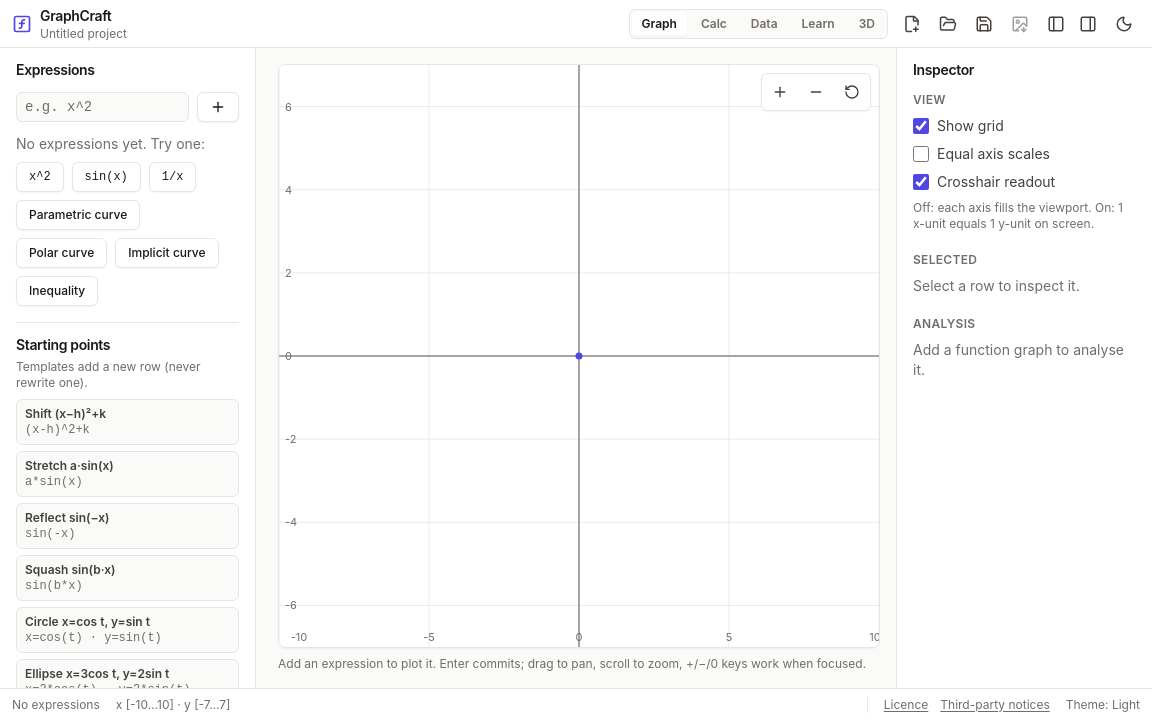
Test: data lab ingestion › commits a manual grid through the same validation
Click the button with aria-label "Show data lab": x=764, y=24 [741,12,788,36]
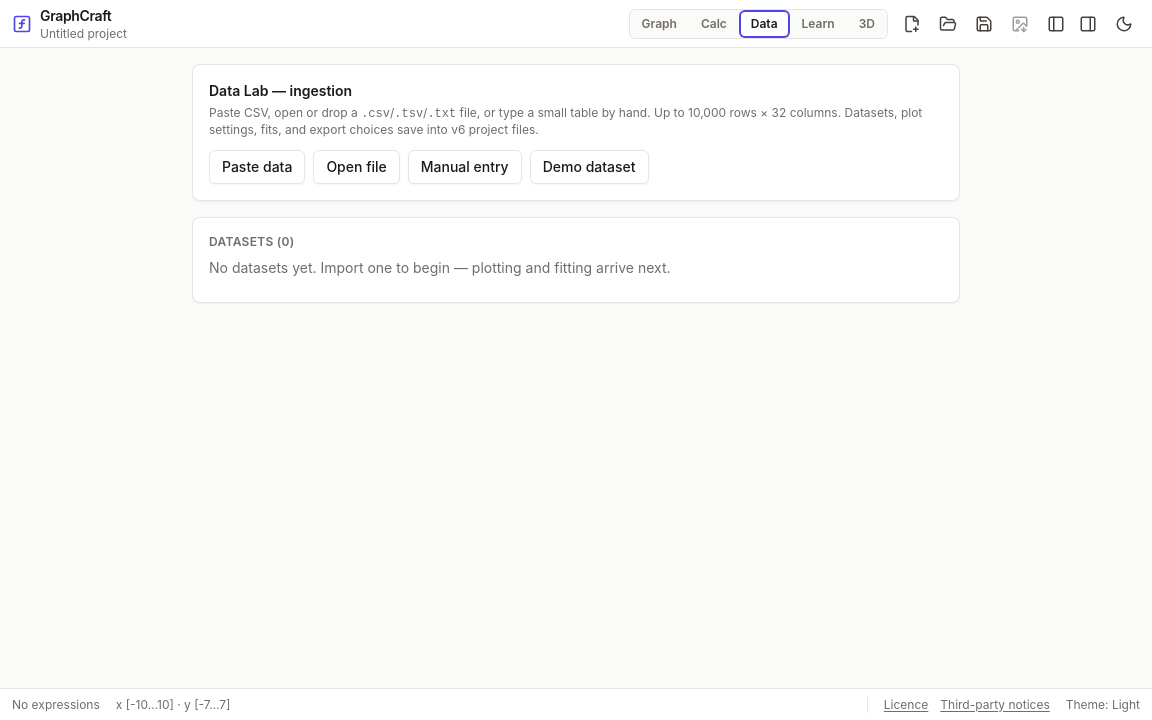
Expected: the heading "Data Lab — ingestion" is shown, [209,82,352,99]
Expected: the button "Paste data" is shown, [209,150,305,184]
Click the button "Manual entry": x=465, y=167 [408,150,522,184]
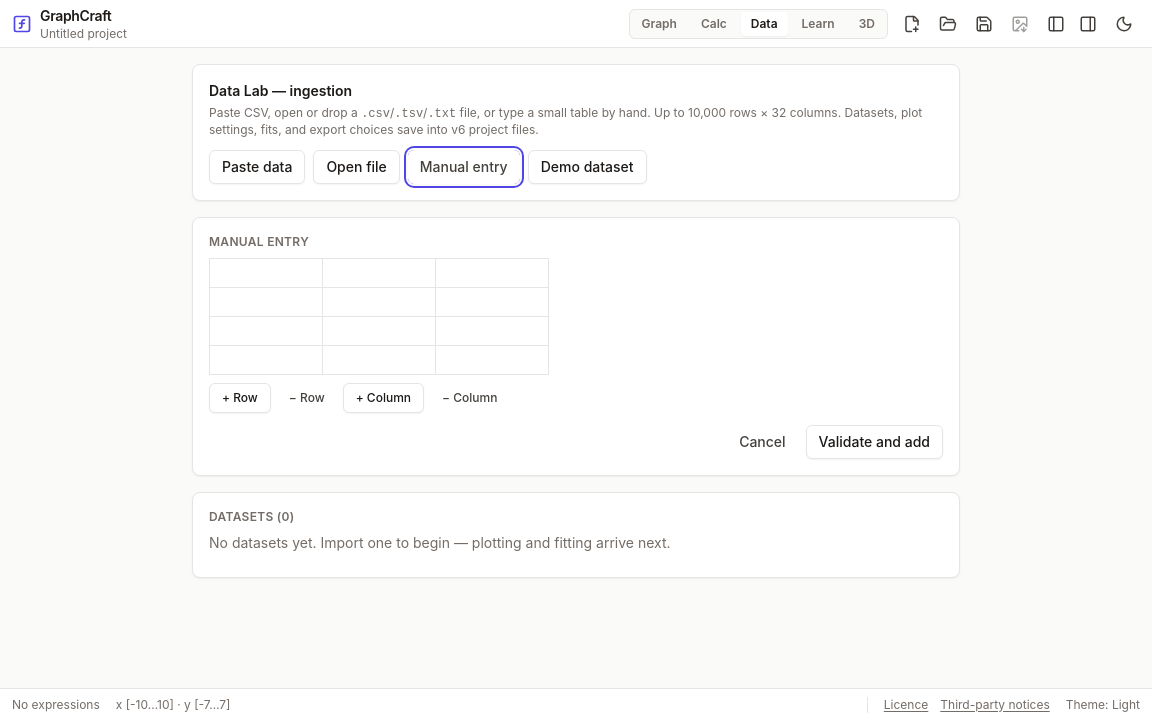
In the field named "Row 1 column 1": x=266, y=273 [210,259,322,287], type "t"
In the field named "Row 1 column 2": x=379, y=273 [323,259,435,287], type "v"
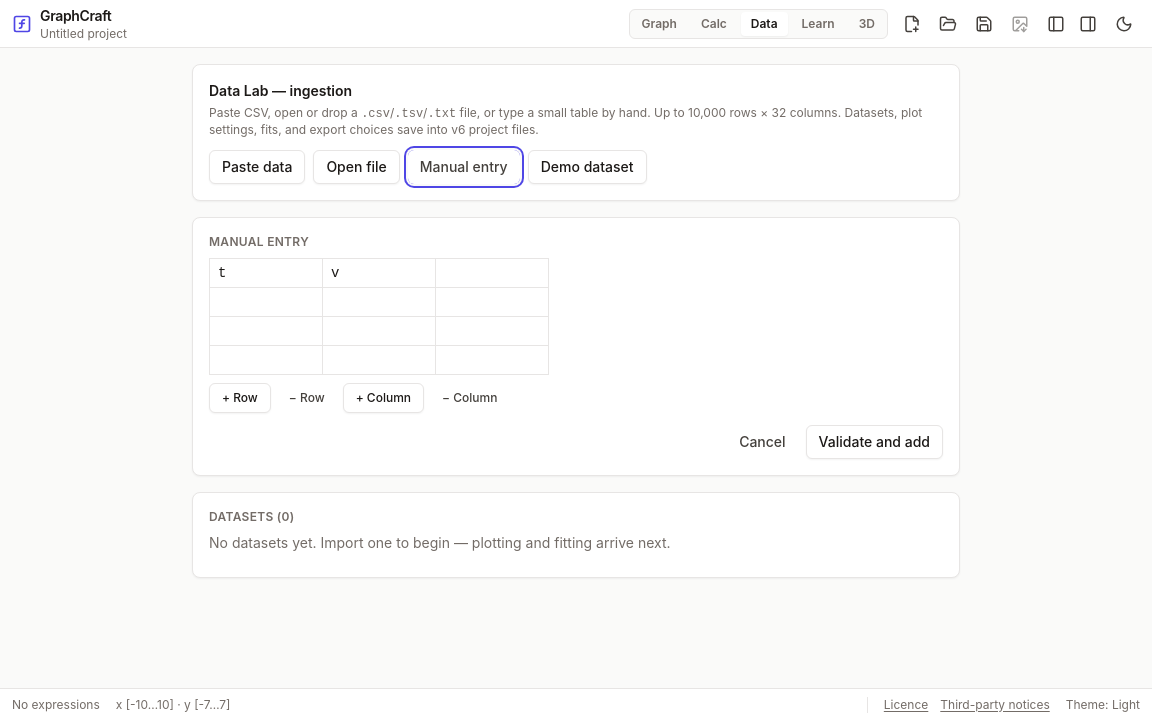
In the field named "Row 2 column 1": x=266, y=302 [210,288,322,316], type "0"
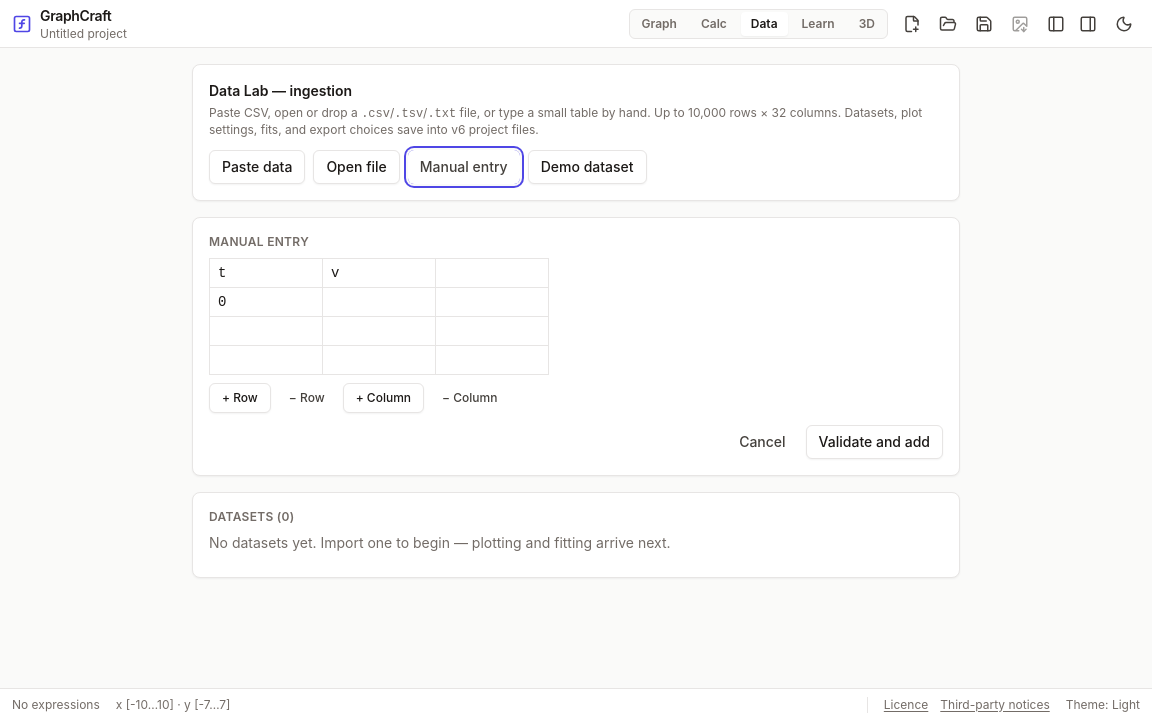
In the field named "Row 2 column 2": x=379, y=302 [323,288,435,316], type "9.8"
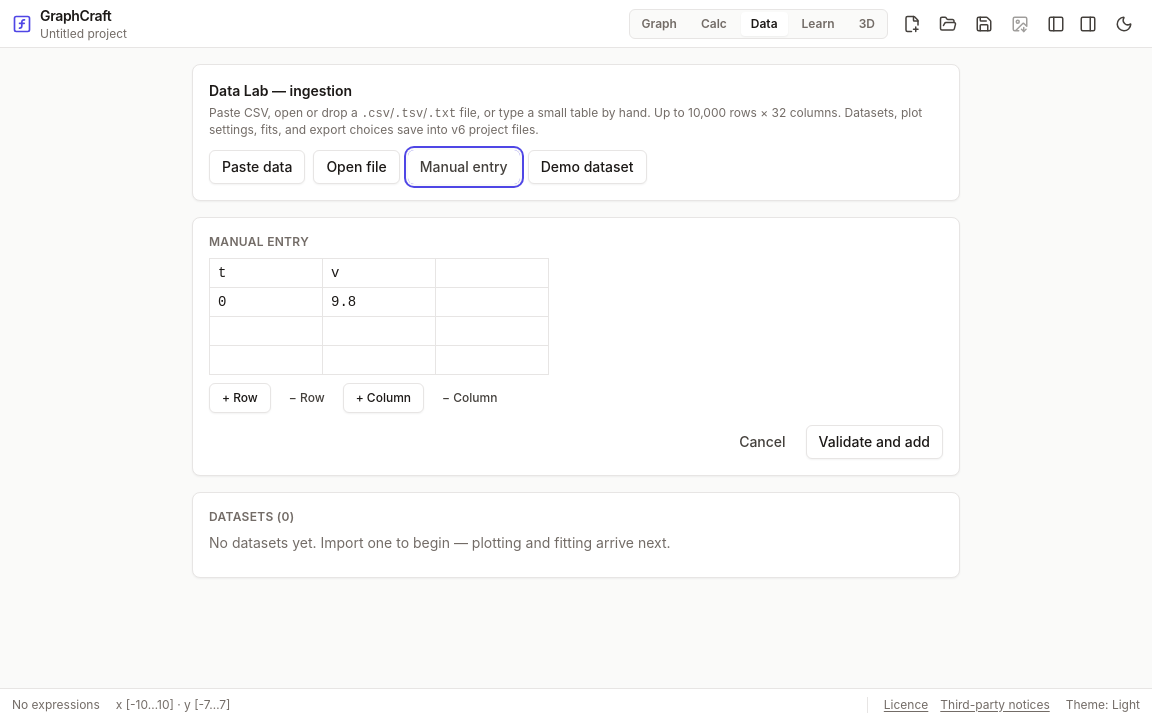
Click the button "Validate and add": x=874, y=442 [806,425,943,459]
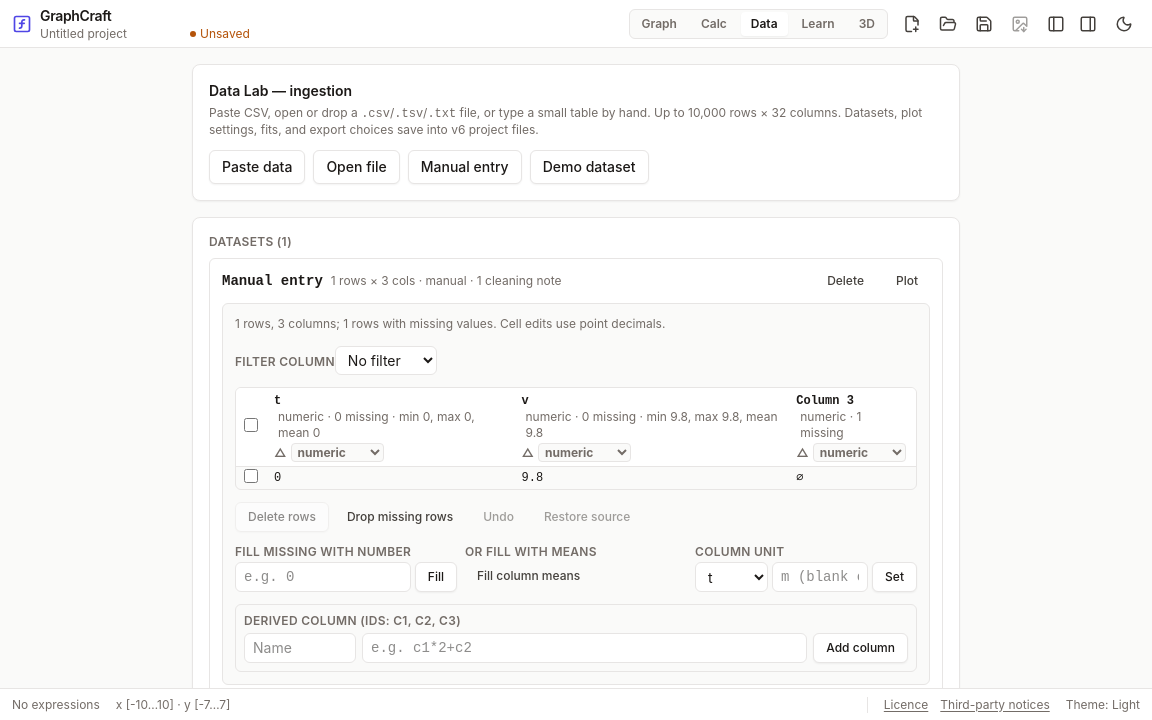
Expected: the heading "Datasets (1)" is shown, [209,234,292,249]
Expected: the button named "Rename t" is shown, [274,393,281,409]
Expected: the button named "Rename v" is shown, [522,393,529,409]
